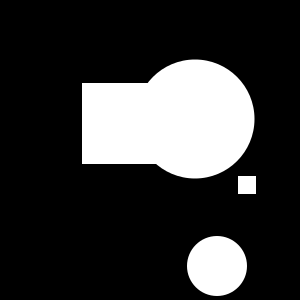circle: (82, 83, 163, 164), (238, 176, 256, 194)
rectangle: (136, 60, 255, 178), (187, 236, 247, 296)
